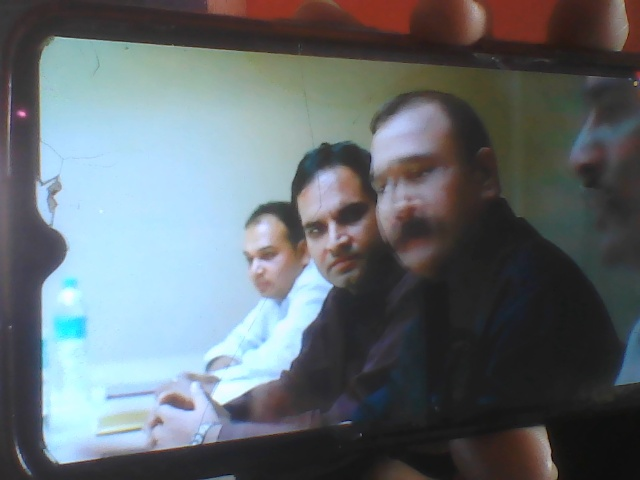fake: (336, 77, 489, 294)
